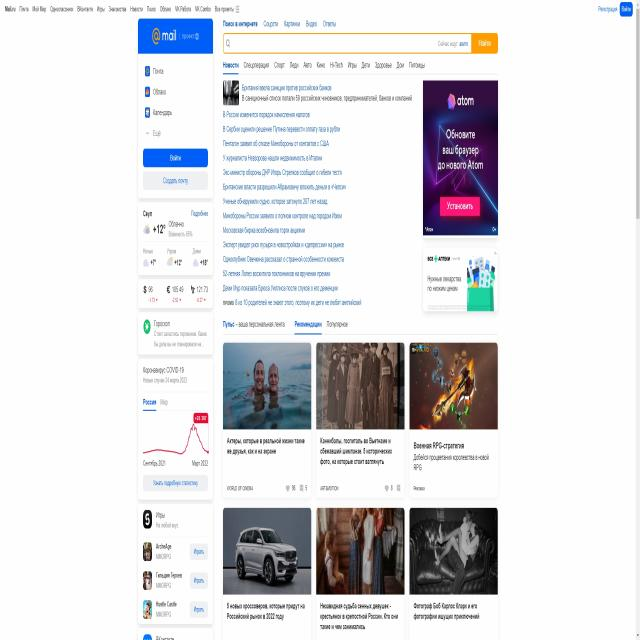menu-bar: (595, 2, 633, 19)
search: (223, 31, 499, 54)
side-panel: (136, 18, 214, 640)
tab-bar: (2, 2, 242, 15), (222, 58, 427, 72), (221, 19, 339, 28)
